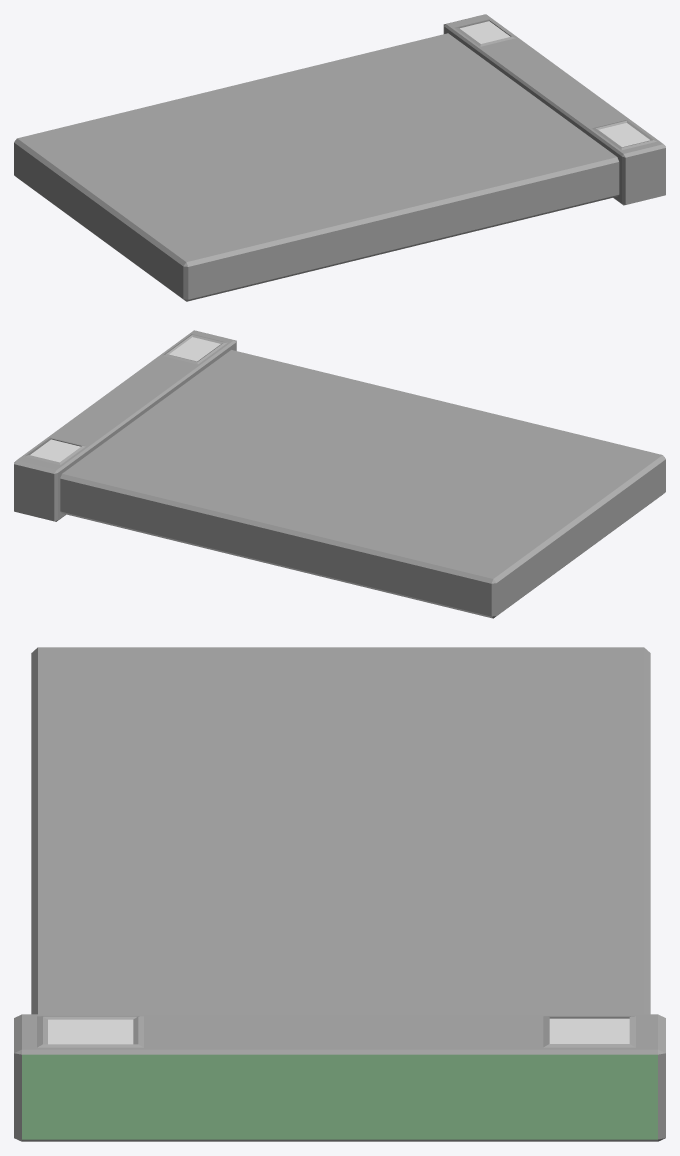
Rendered from GR - White Platform.fbx.
3 views of the same model, one above another, from view 1: azimuth 30°, elevation 25°; view 2: azimuth 150°, elevation 25°; view 3: azimuth 270°, elevation 25° (orthographic). The views are drawn at different scales.
Parts seen in each view (by area): view 1: pCube847; view 2: pCube847; view 3: pCube847.
Part boxes in pixels (x1,y1,x2,y2): pCube847: (14,14,665,301); pCube847: (14,330,665,618); pCube847: (14,647,665,1141).
Size of the model in its own units: 15.77 by 1.65 by 10.41.
